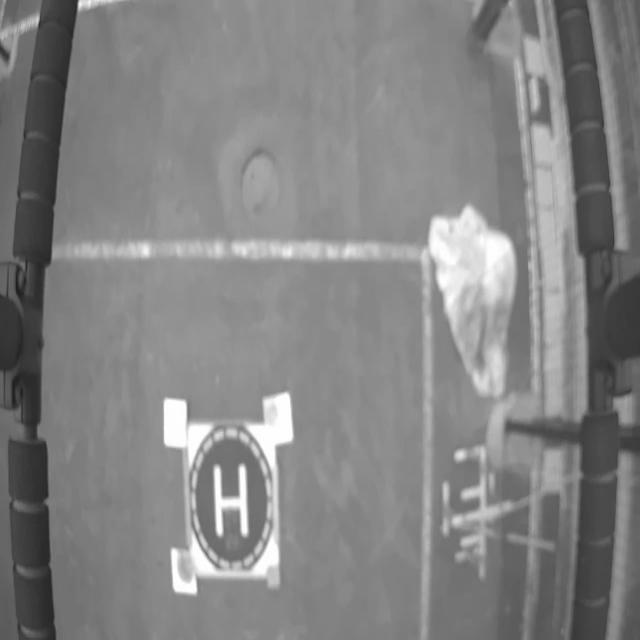Helipad: (213, 463, 249, 537)
